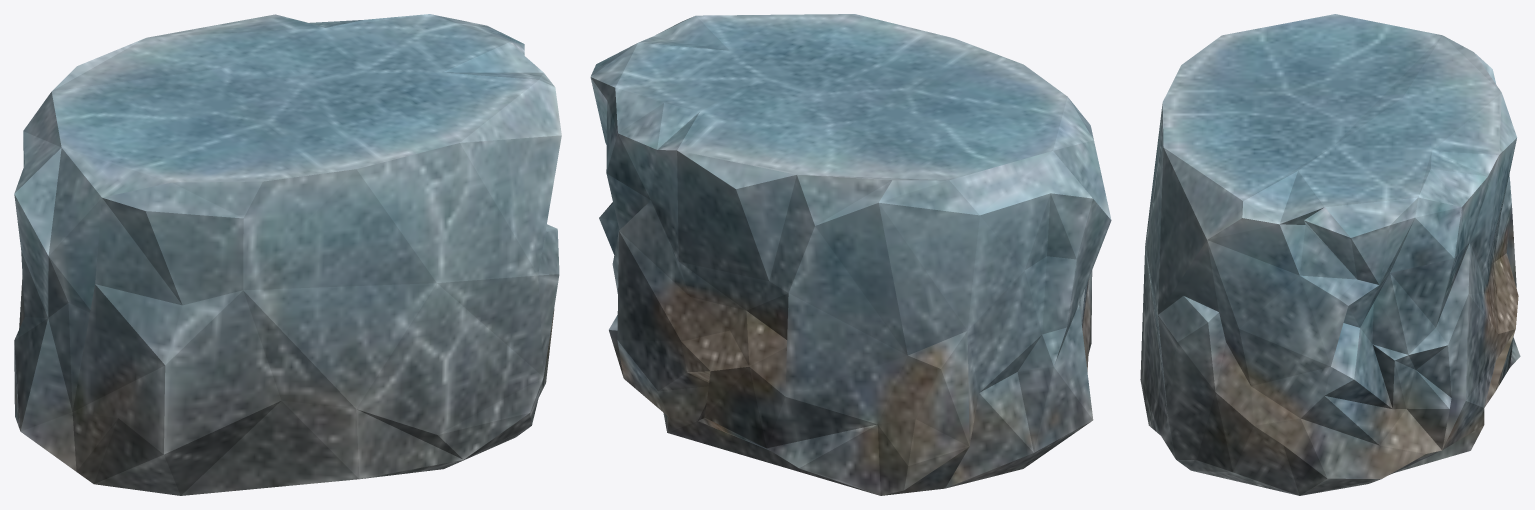
The model's file is res.material_basic.glb.
3 renders of one model, left to right at view 1: azimuth 30°, elevation 25°; view 2: azimuth 150°, elevation 25°; view 3: azimuth 270°, elevation 25°, orthographic. The views are drawn at different scales.
Visible parts, largest first — view 1: body; view 2: body; view 3: body.
Part boxes in pixels (x1,y1,x2,y2): body: [14, 14, 561, 495]; body: [590, 14, 1111, 495]; body: [1140, 14, 1520, 495].
Size of the model in its own units: 0.4157 by 0.2511 by 0.2933.
Materials: 1 (1 with a texture image).
